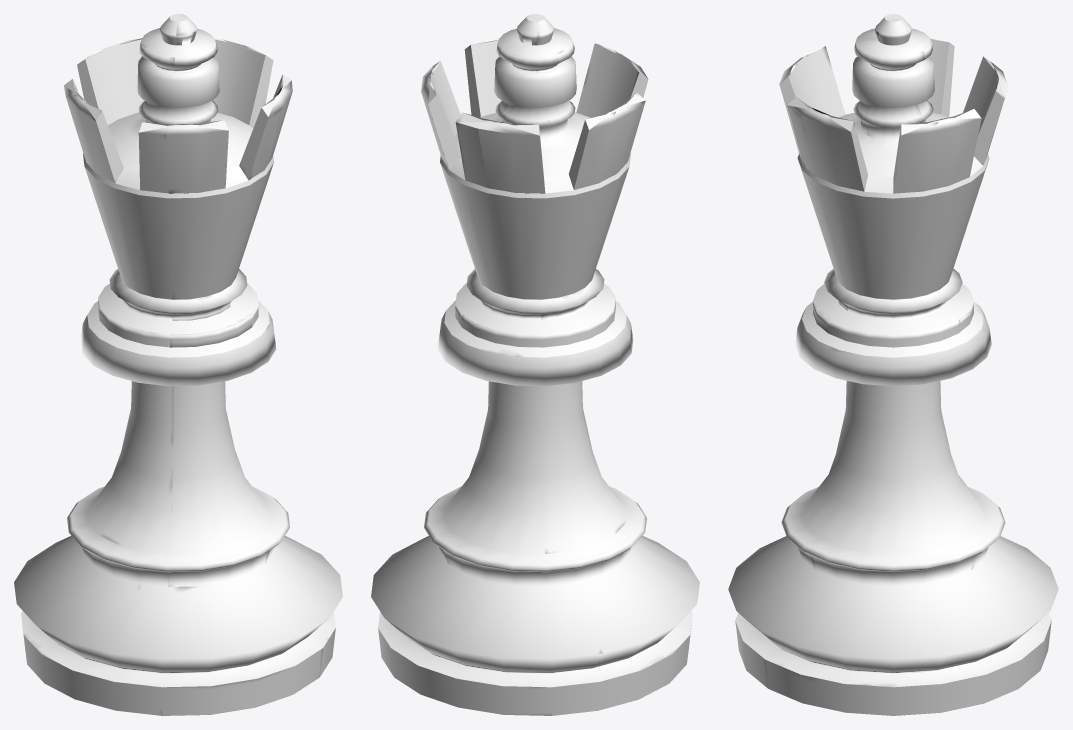
Rendered from King_White.fbx.
3 renders of one model, left to right at view 1: azimuth 30°, elevation 25°; view 2: azimuth 150°, elevation 25°; view 3: azimuth 270°, elevation 25°, orthographic.
Parts seen in each view (by area): view 1: raja1.001; view 2: raja1.001; view 3: raja1.001.
Part boxes in pixels (<box>): raja1.001: <box>14,14,342,715</box>; raja1.001: <box>371,14,699,715</box>; raja1.001: <box>728,14,1058,715</box>.
Bounding box in the file's own units: 2.41 × 5.09 × 2.41.
